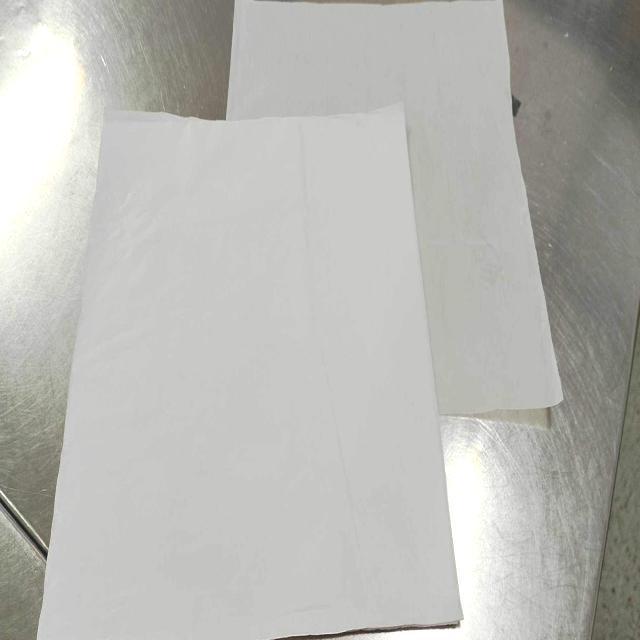Infectious: (34, 100, 464, 638)
Sharps: (0, 485, 51, 564)
